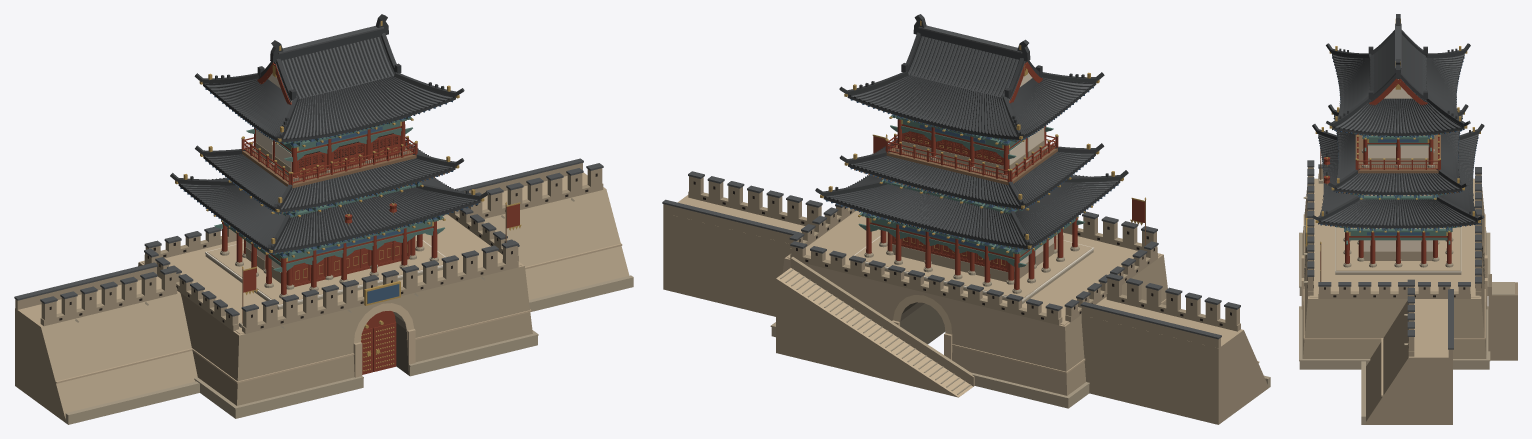
3 renders of one model, left to right at view 1: azimuth 30°, elevation 25°; view 2: azimuth 150°, elevation 25°; view 3: azimuth 270°, elevation 25°, orthographic. The views are drawn at different scales.
Parts seen in each view (by area): view 1: X02; view 2: X02; view 3: X02.
Part boxes in pixels (<box>): X02: <box>14,14,633,424</box>; X02: <box>662,14,1270,424</box>; X02: <box>1299,14,1517,424</box>.
Bounding box in the file's own units: 60.9 × 32.08 × 23.61.
